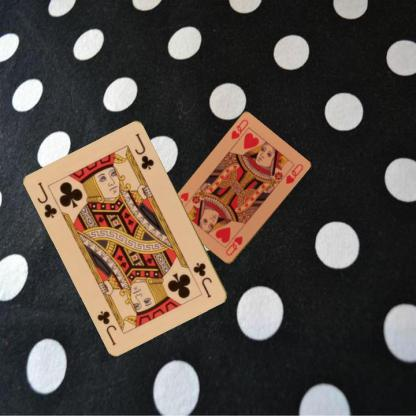Jc: (35, 179, 59, 220), (190, 260, 214, 300)
Qh: (228, 117, 250, 141), (223, 234, 244, 257)
